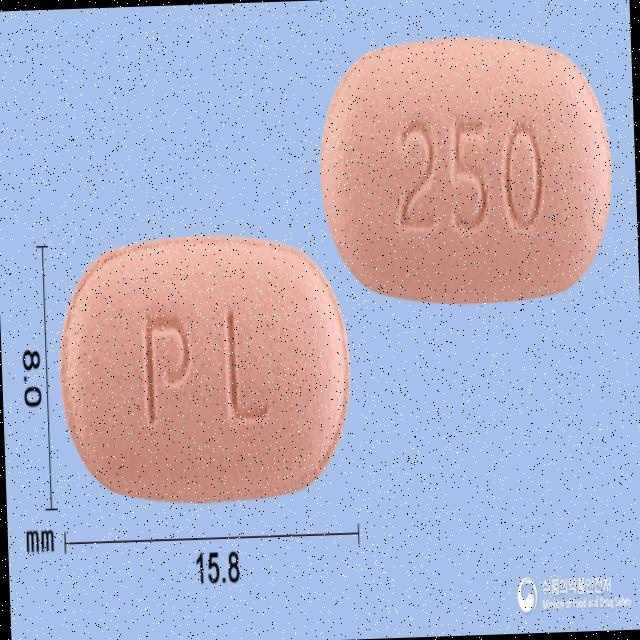Levoxacin -500mg: (318, 32, 618, 309), (54, 232, 354, 506)
